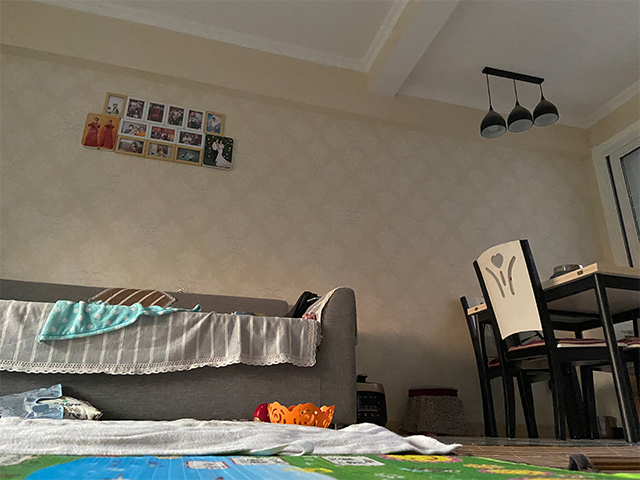sofa: (1, 277, 358, 429)
stool: (473, 238, 612, 441), (401, 385, 471, 436)
table: (466, 261, 640, 446)
